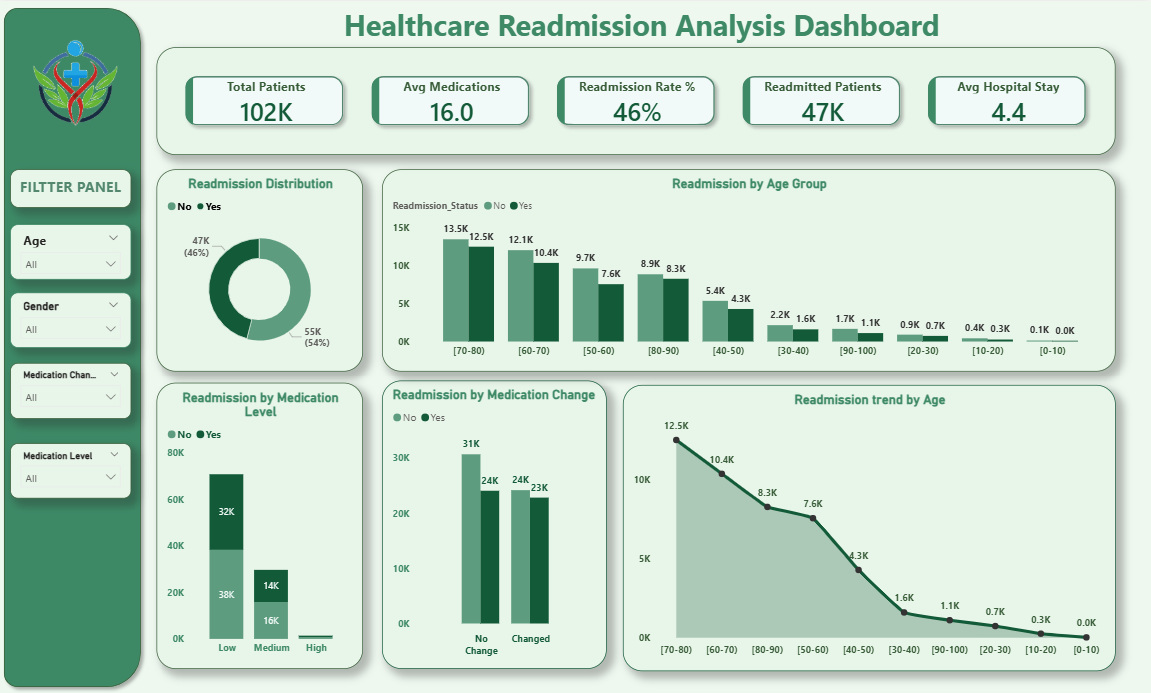

This screenshot's page, from the dashboard's own definition file:
{"tool":"powerbi","page":{"name":"Page 1","canvas":[1500,900],"ordinal":0},"visuals":[{"type":"donutChart","title":"Readmission Distribution","fields":{"Category":["diabetic_data modified.Readmission_Status"],"Y":["CountNonNull(diabetic_data modified.Readmission_Status)"]},"box":[207.1,218.6,268.6,262.9],"z":0},{"type":"columnChart","title":"Readmission by Medication Level","fields":{"Category":["diabetic_data modified.Medication_Level"],"Series":["diabetic_data modified.Readmission_Status"],"Y":["CountNonNull(diabetic_data modified.Readmission_Status)"]},"box":[207.1,495.7,268.6,371.4],"z":1000},{"type":"clusteredColumnChart","title":"Readmission by Medication Change","fields":{"Category":["diabetic_data modified.Medication_Change"],"Series":["diabetic_data modified.Readmission_Status"],"Y":["CountNonNull(diabetic_data modified.Readmission_Status)"]},"box":[500,492.9,291.4,374.3],"z":2000},{"type":"clusteredColumnChart","title":"Readmission by Age Group","fields":{"Category":["diabetic_data modified.age"],"Series":["diabetic_data modified.Readmission_Status"],"Y":["CountNonNull(diabetic_data modified.Readmission_Status)"]},"box":[500,218.6,952.9,262.9],"z":3000},{"type":"lineChart","title":"Readmission trend by Age","fields":{"Category":["diabetic_data modified.age"],"Y":["CountNonNull(diabetic_data modified.Readmission_Status)"]},"box":[812.9,498.6,640,371.4],"z":4000},{"type":"shape","box":[0,0,195.7,900],"z":5000},{"type":"textbox","box":[364.3,0,945.7,60],"z":6000},{"type":"image","box":[20,40,164.3,132.9],"z":7000},{"type":"slicer","fields":{"Values":["diabetic_data modified.age"]},"box":[17.1,290,157.1,71.4],"z":8000},{"type":"slicer","fields":{"Values":["diabetic_data modified.gender"]},"box":[17.1,378.6,157.1,71.4],"z":9000},{"type":"slicer","fields":{"Values":["diabetic_data modified.Medication_Change"]},"box":[17.1,470,157.1,72.9],"z":10000},{"type":"slicer","fields":{"Values":["diabetic_data modified.Medication_Level"]},"box":[17.1,574.3,157.1,71.4],"z":11000},{"type":"cardVisual","fields":{"Data":["diabetic_data modified.Total Patients","diabetic_data modified.Avg Medications","diabetic_data modified.Readmission Rate %","diabetic_data modified.Readmitted Patients","diabetic_data modified.Avg Hospital Stay"]},"box":[207.1,60,1245.7,140],"z":12000},{"type":"textbox","box":[17.1,218.6,157.1,50],"z":13000}]}

Visuals, with their boxes in screenshot pixels (x1, y1, x2, y2), scaled from the page's 1500x900 canvas onto the 1151x693 screenshot:
"Readmission Distribution" donutChart: bbox=(159, 168, 365, 371)
"Readmission by Medication Level" columnChart: bbox=(159, 382, 365, 668)
"Readmission by Medication Change" clusteredColumnChart: bbox=(384, 380, 607, 668)
"Readmission by Age Group" clusteredColumnChart: bbox=(384, 168, 1115, 371)
"Readmission trend by Age" lineChart: bbox=(624, 384, 1115, 670)
shape: bbox=(0, 0, 150, 692)
textbox: bbox=(280, 0, 1005, 46)
image: bbox=(15, 31, 141, 133)
slicer - diabetic_data modified.age: bbox=(13, 223, 134, 278)
slicer - diabetic_data modified.gender: bbox=(13, 292, 134, 346)
slicer - diabetic_data modified.Medication_Change: bbox=(13, 362, 134, 418)
slicer - diabetic_data modified.Medication_Level: bbox=(13, 442, 134, 497)
cardVisual - diabetic_data modified.Total Patients x diabetic_data modified.Avg Medications: bbox=(159, 46, 1115, 154)
textbox: bbox=(13, 168, 134, 207)
